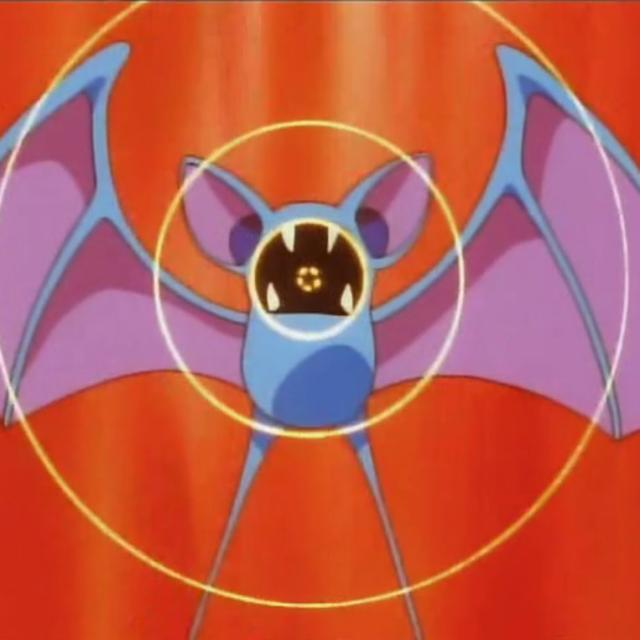Zubat: (93, 111, 502, 550)
